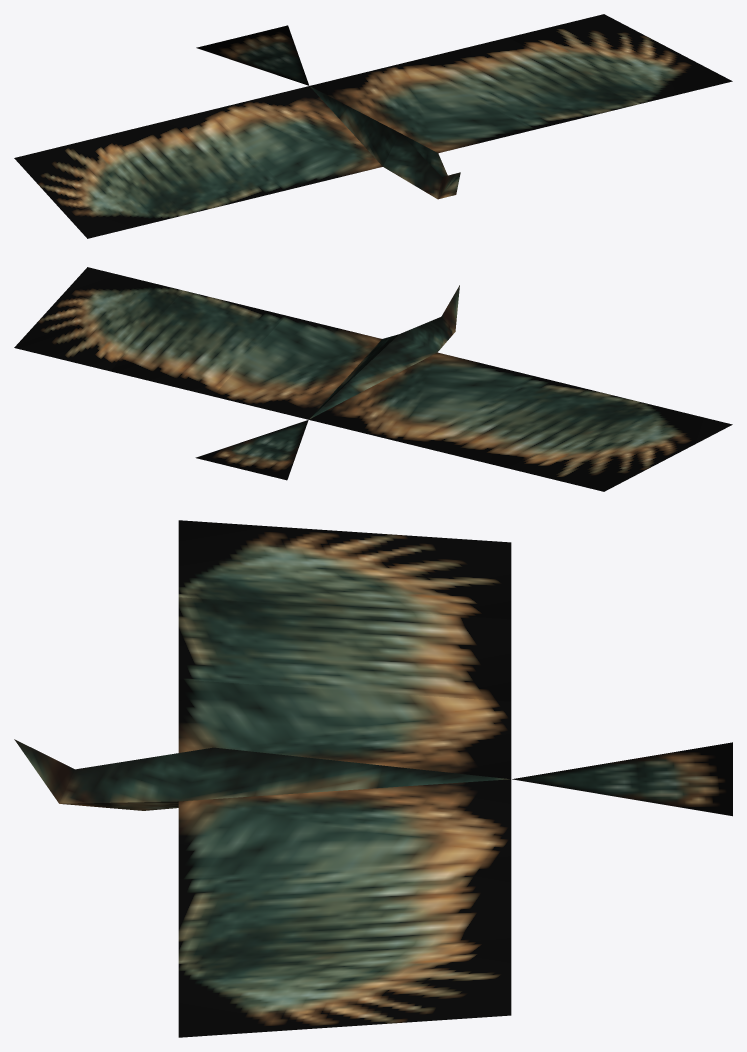
The model's file is Bird.obj.
The picture shows the model from 3 angles, top to bottom: view 1: azimuth 30°, elevation 25°; view 2: azimuth 150°, elevation 25°; view 3: azimuth 270°, elevation 25°; orthographic projection. The views are drawn at different scales.
Visible parts, largest first — view 1: Group1; view 2: Group1; view 3: Group1.
Boxes of the visible parts, <box> form: Group1: <box>14,14,732,238</box>; Group1: <box>14,267,732,491</box>; Group1: <box>14,520,732,1037</box>.
Size of the model in its own units: 101 by 6.54 by 59.16.
Materials: 1 (1 with a texture image).
